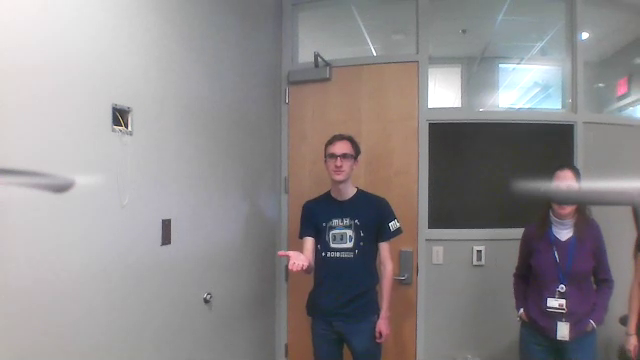land: (275, 243, 314, 276)
